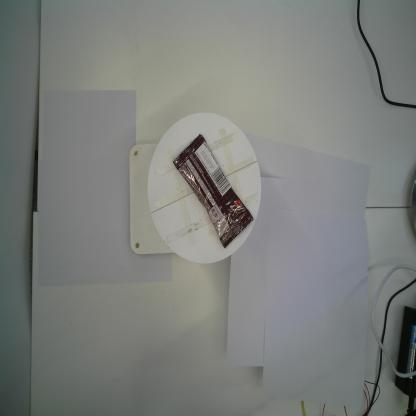Chocolate: (173, 132, 254, 248)
